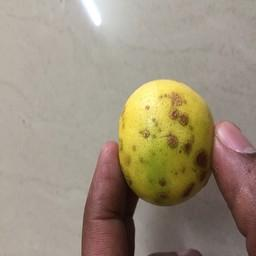Bad_lime: (116, 71, 216, 213)
